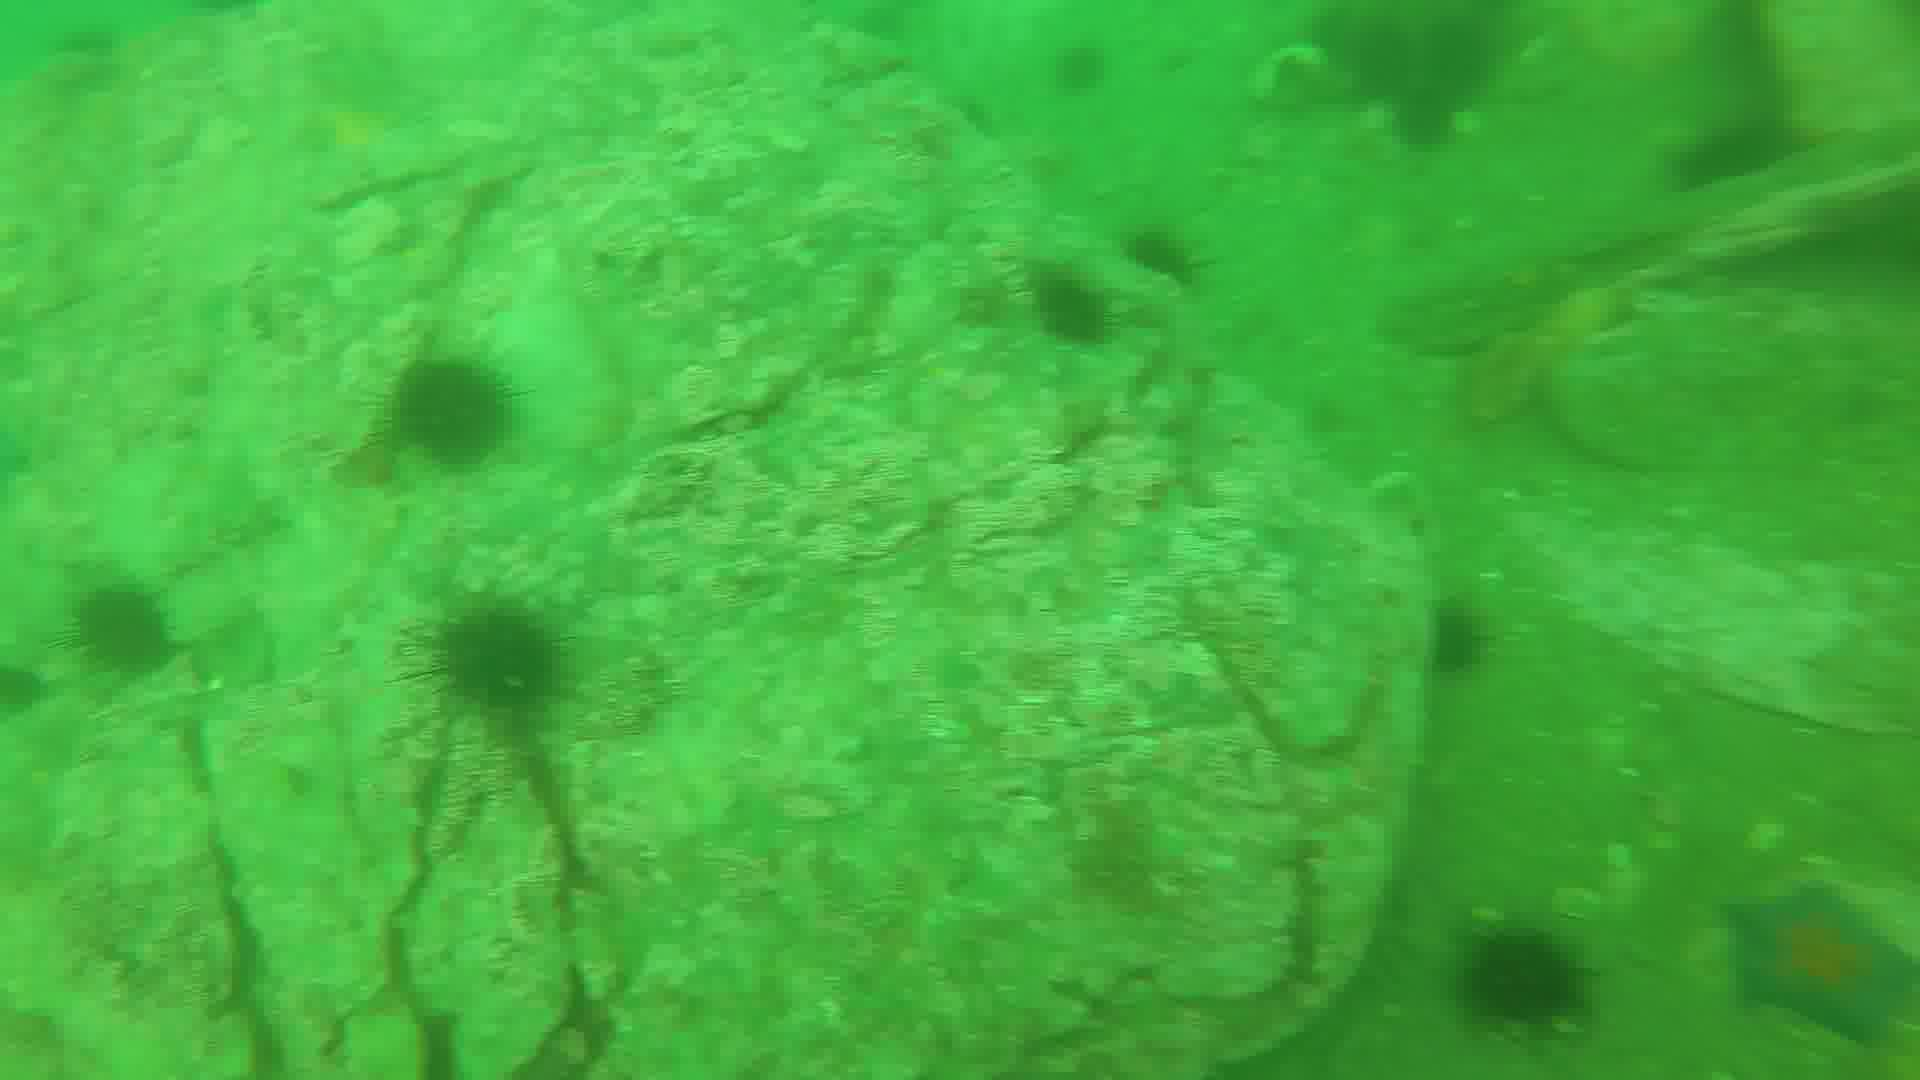echinus: (423, 597, 574, 715), (375, 359, 516, 458), (1466, 920, 1578, 1033), (1669, 121, 1803, 200), (75, 585, 179, 682), (1122, 219, 1192, 307), (1033, 269, 1110, 347), (1412, 597, 1487, 665)
starfish: (1737, 880, 1920, 1051)
